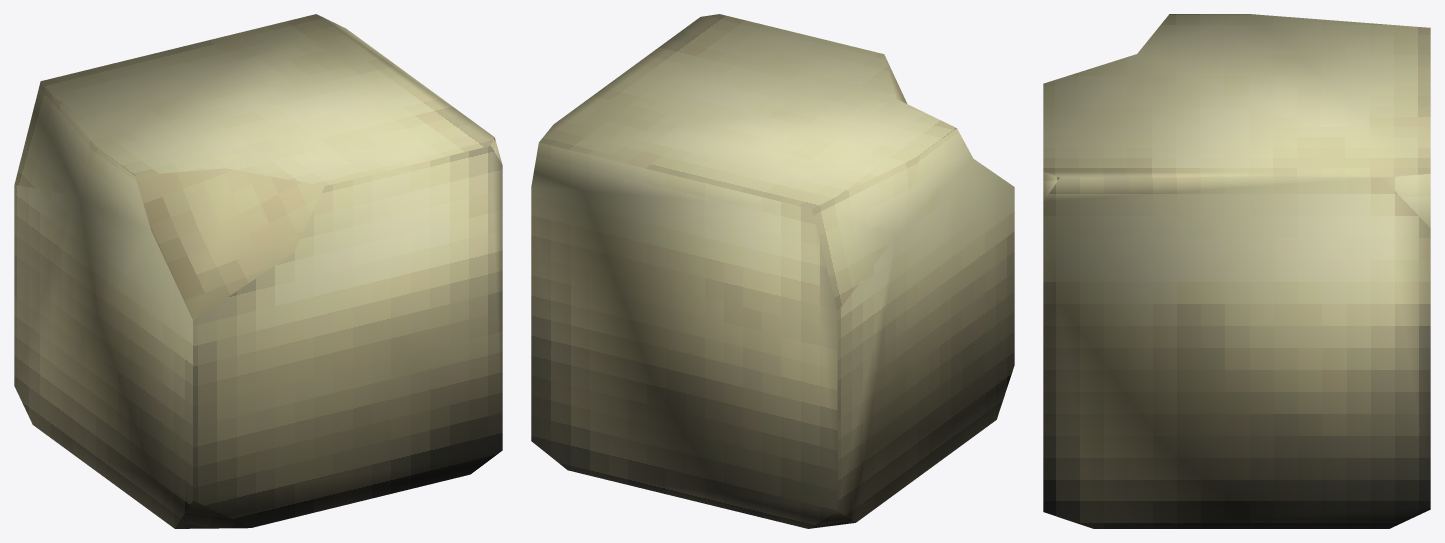
Rendered from marble.glb.
The picture shows the model from 3 angles, left to right: view 1: azimuth 30°, elevation 25°; view 2: azimuth 150°, elevation 25°; view 3: azimuth 270°, elevation 25°; orthographic projection. The views are drawn at different scales.
Visible parts, largest first — view 1: marble; view 2: marble; view 3: marble.
Boxes of the visible parts, x1,y1,x2,y2 form: marble: [14, 14, 502, 528]; marble: [531, 14, 1014, 528]; marble: [1043, 14, 1430, 528].
Size of the model in its own units: 1 by 1 by 1.
Materials: 1 (1 with a texture image).
